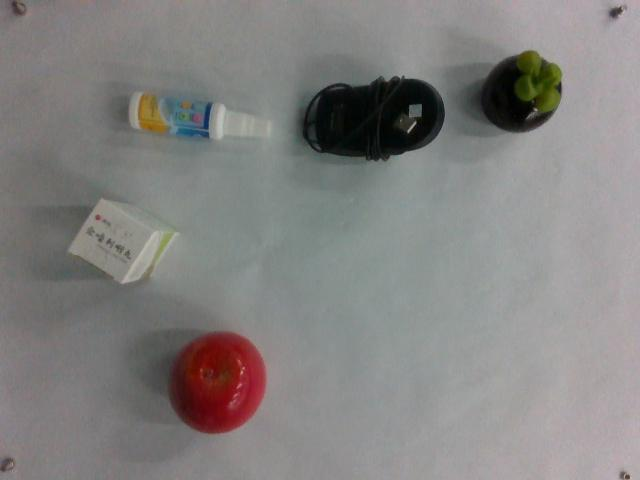apple: (167, 331, 268, 434)
carton: (71, 189, 180, 287)
detergent: (128, 85, 272, 149)
mangosteen: (479, 50, 563, 133)
mouse: (300, 77, 444, 163)
